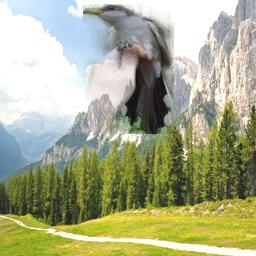Cuckoo: (83, 4, 174, 134)
